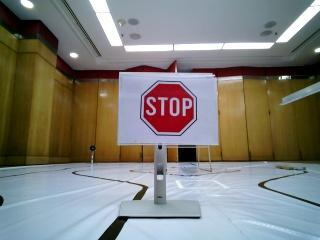stop: (122, 73, 215, 147)
